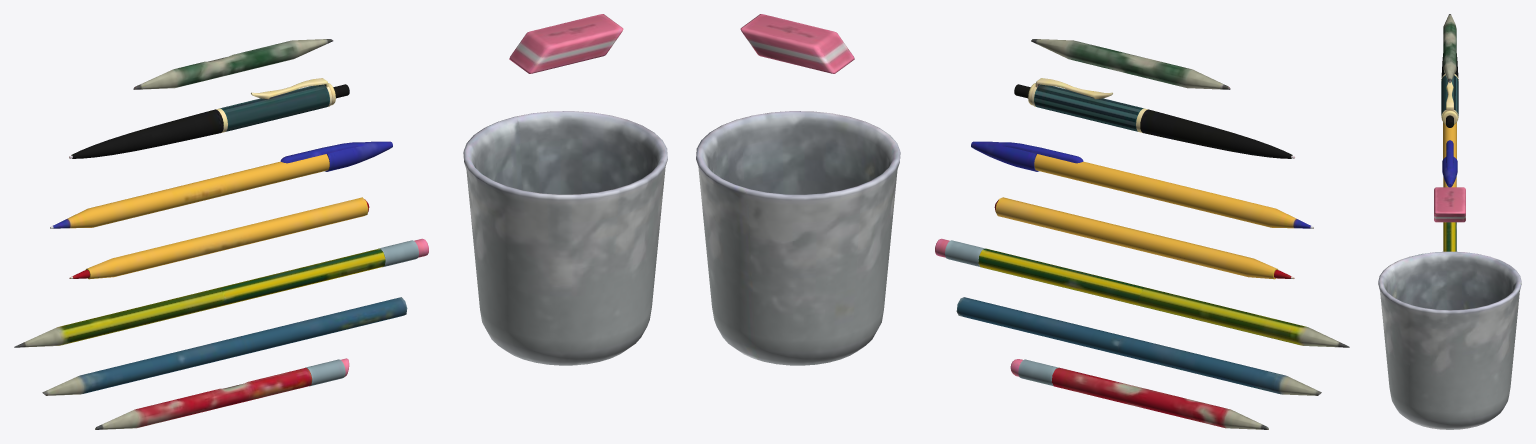
Rendered from stationery_supplies.gltf.
3 renders of one model, left to right at view 1: azimuth 30°, elevation 25°; view 2: azimuth 150°, elevation 25°; view 3: azimuth 270°, elevation 25°, orthographic. The views are drawn at different scales.
Visible parts, largest first — view 1: stationery_supplies_pencilcup, stationery_supplies_pencil_new_a, stationery_supplies_pencil_new_b, stationery_supplies_pen_blue, stationery_supplies_pen_fancy, stationery_supplies_pen_red, stationery_supplies_pencil_used, stationery_supplies_eraser, stationery_supplies_pencil_old; view 2: stationery_supplies_pencilcup, stationery_supplies_pencil_new_a, stationery_supplies_pencil_new_b, stationery_supplies_pen_blue, stationery_supplies_pen_fancy, stationery_supplies_pen_red, stationery_supplies_pencil_used, stationery_supplies_eraser, stationery_supplies_pencil_old; view 3: stationery_supplies_pencilcup, stationery_supplies_eraser, stationery_supplies_pen_fancy, stationery_supplies_pen_blue, stationery_supplies_pencil_old, stationery_supplies_pencil_new_a.
Part boxes in pixels (box(x1,y1,x2,y2)): stationery_supplies_pencilcup: box(463, 111, 667, 365); stationery_supplies_pencil_new_a: box(14, 238, 428, 347); stationery_supplies_pencil_new_b: box(42, 297, 407, 395); stationery_supplies_pen_blue: box(50, 141, 392, 228); stationery_supplies_pen_fancy: box(69, 78, 349, 158); stationery_supplies_pen_red: box(69, 197, 369, 279); stationery_supplies_pencil_used: box(95, 358, 349, 429); stationery_supplies_eraser: box(509, 14, 623, 73); stationery_supplies_pencil_old: box(133, 39, 333, 89); stationery_supplies_pencilcup: box(696, 111, 900, 365); stationery_supplies_pencil_new_a: box(935, 238, 1349, 347); stationery_supplies_pencil_new_b: box(956, 297, 1321, 395); stationery_supplies_pen_blue: box(971, 141, 1313, 228); stationery_supplies_pen_fancy: box(1014, 78, 1294, 158); stationery_supplies_pen_red: box(994, 197, 1294, 279); stationery_supplies_pencil_used: box(1010, 359, 1268, 429); stationery_supplies_eraser: box(740, 14, 854, 73); stationery_supplies_pencil_old: box(1031, 39, 1230, 89); stationery_supplies_pencilcup: box(1378, 251, 1521, 429); stationery_supplies_eraser: box(1434, 187, 1465, 222); stationery_supplies_pen_fancy: box(1441, 53, 1458, 127); stationery_supplies_pen_blue: box(1442, 122, 1457, 187); stationery_supplies_pencil_old: box(1443, 14, 1456, 82); stationery_supplies_pencil_new_a: box(1443, 222, 1456, 251).
Bounding box in the file's own units: 0.3019 × 0.1643 × 0.0837.
1 material, 1 textured.
